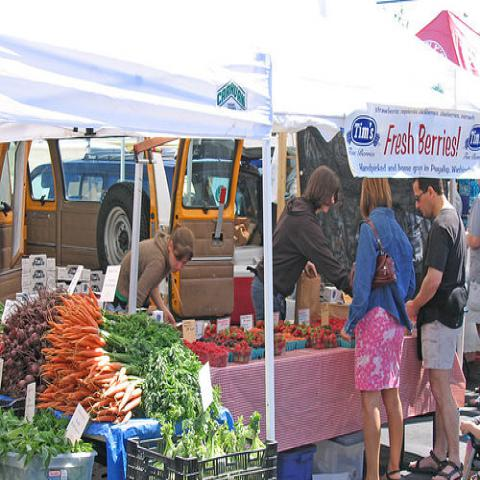car: (30, 154, 178, 202)
truck: (24, 148, 262, 330)
